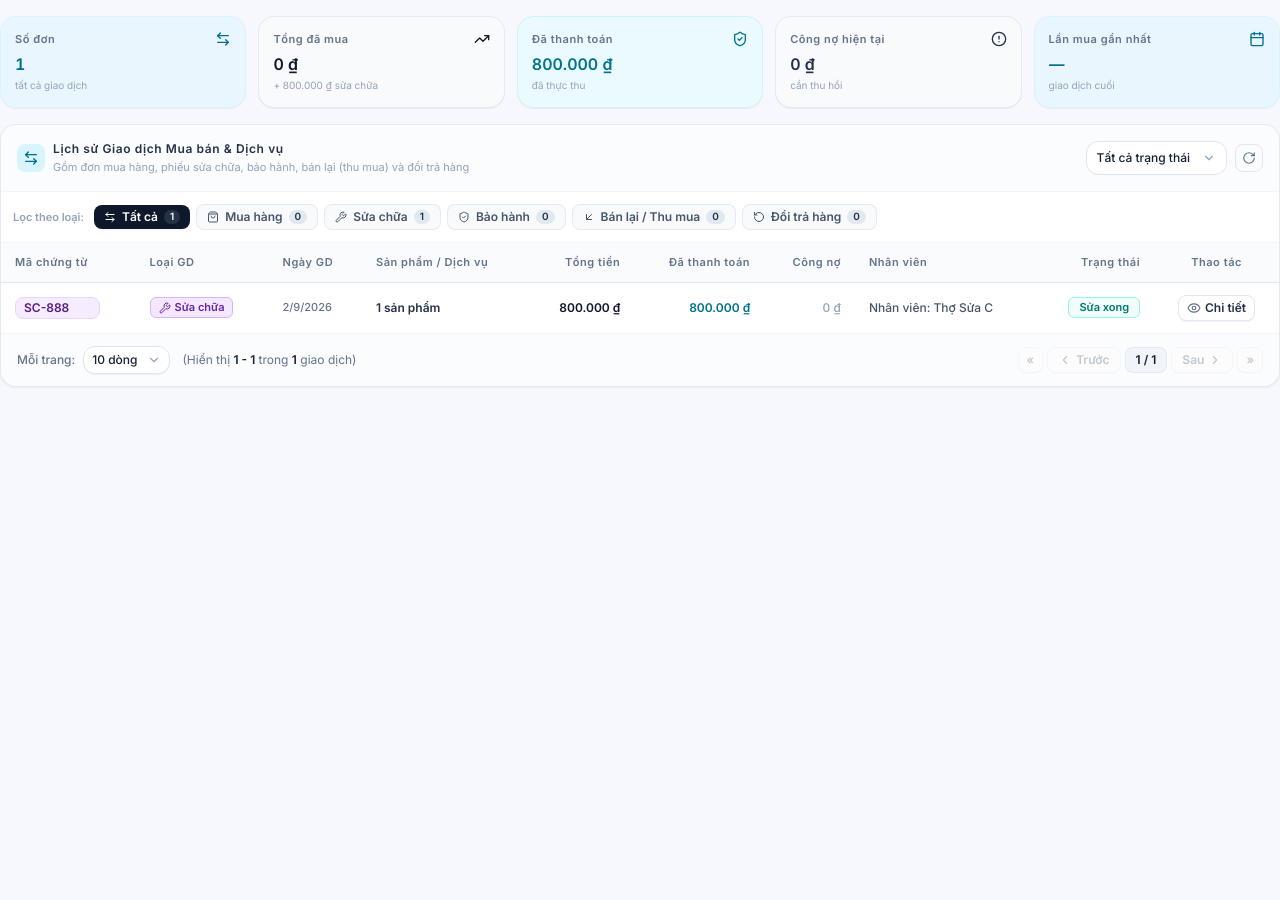
Test: CustomerPurchaseHistoryPanel › opens repair detail modal showing device and symptom
Check: the text "SC-888" is shown, box [24, 300, 69, 316]
Click the text "SC-888": (58, 308) [1, 282, 1279, 333]
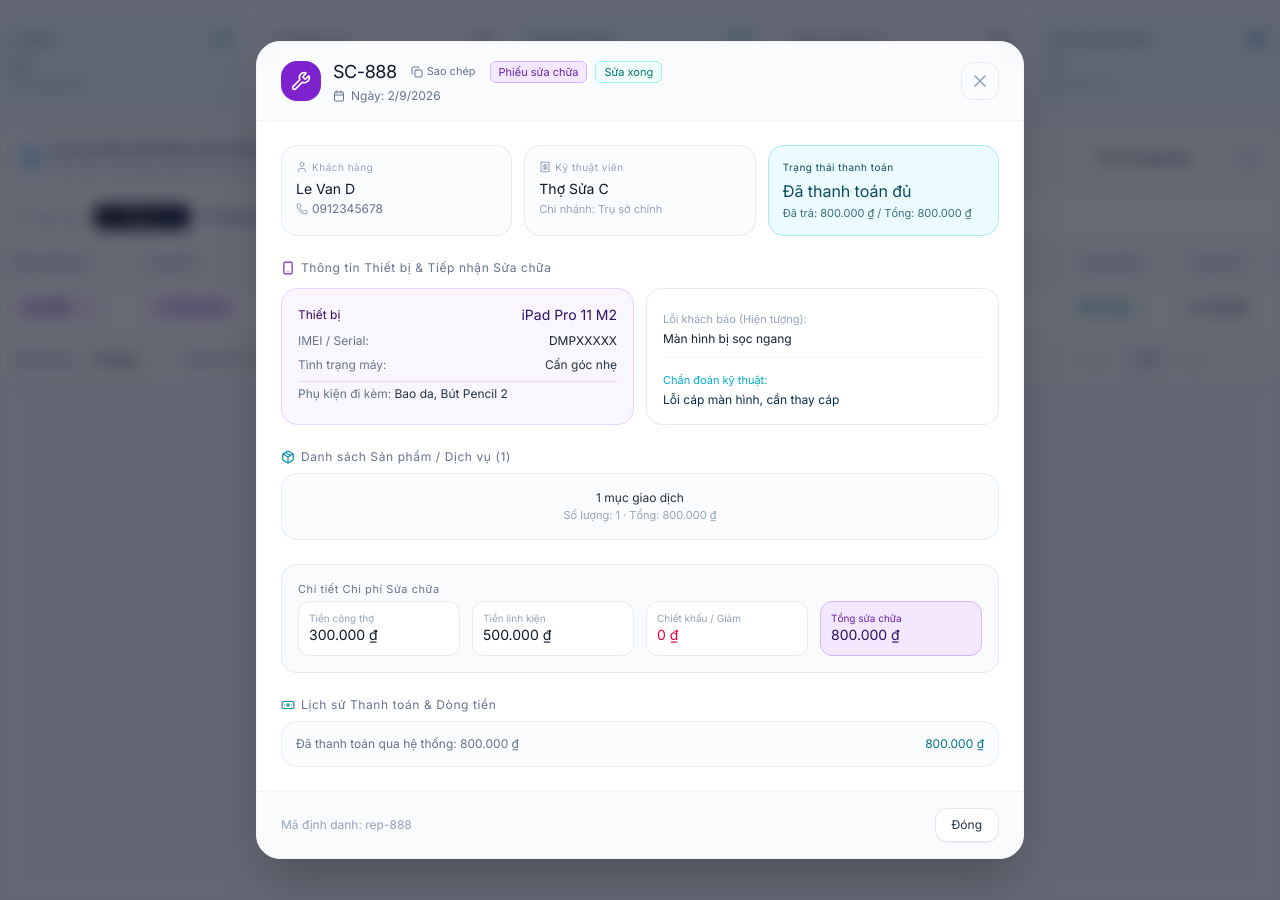
Check: the text "iPad Pro 11 M2" is shown, box [522, 305, 617, 325]
Check: the text "DMPXXXXX" is shown, box [549, 333, 617, 349]
Check: the text "Màn hình bị sọc ngang" is shown, box [663, 331, 792, 346]
